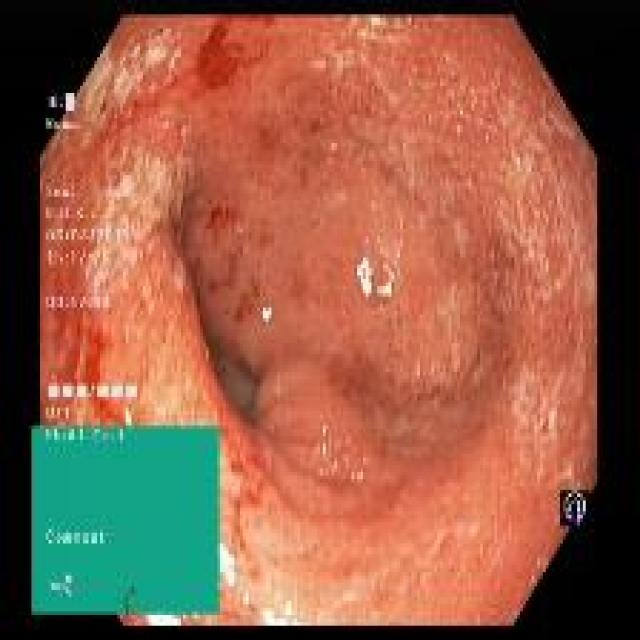ulcerative-colitis: (40, 17, 598, 625)
